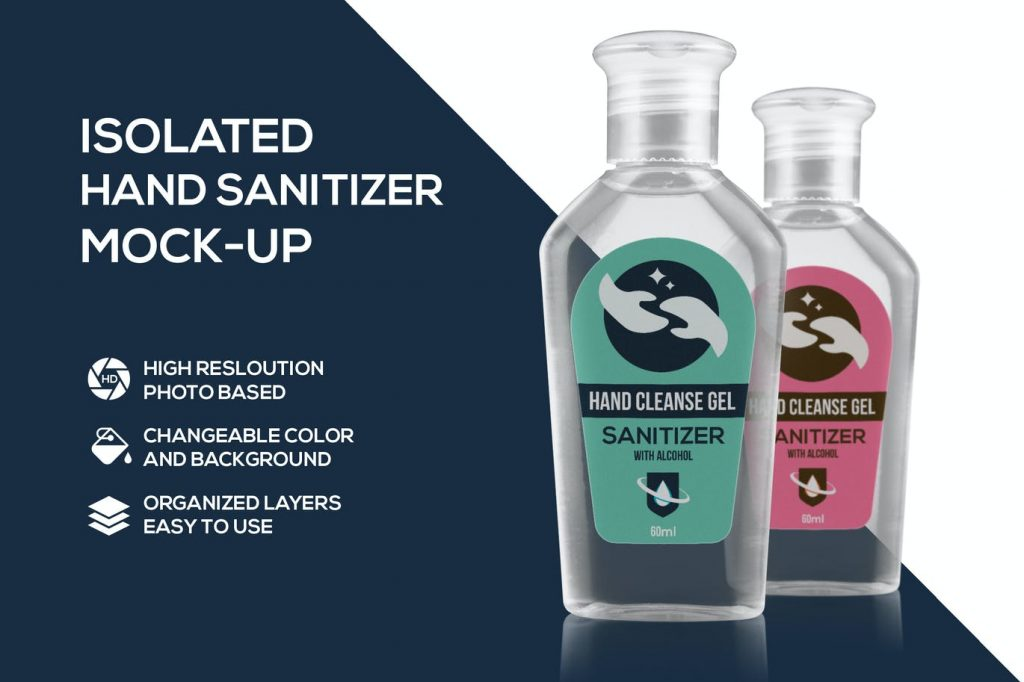Medicine: (526, 22, 788, 636), (742, 70, 926, 628)
